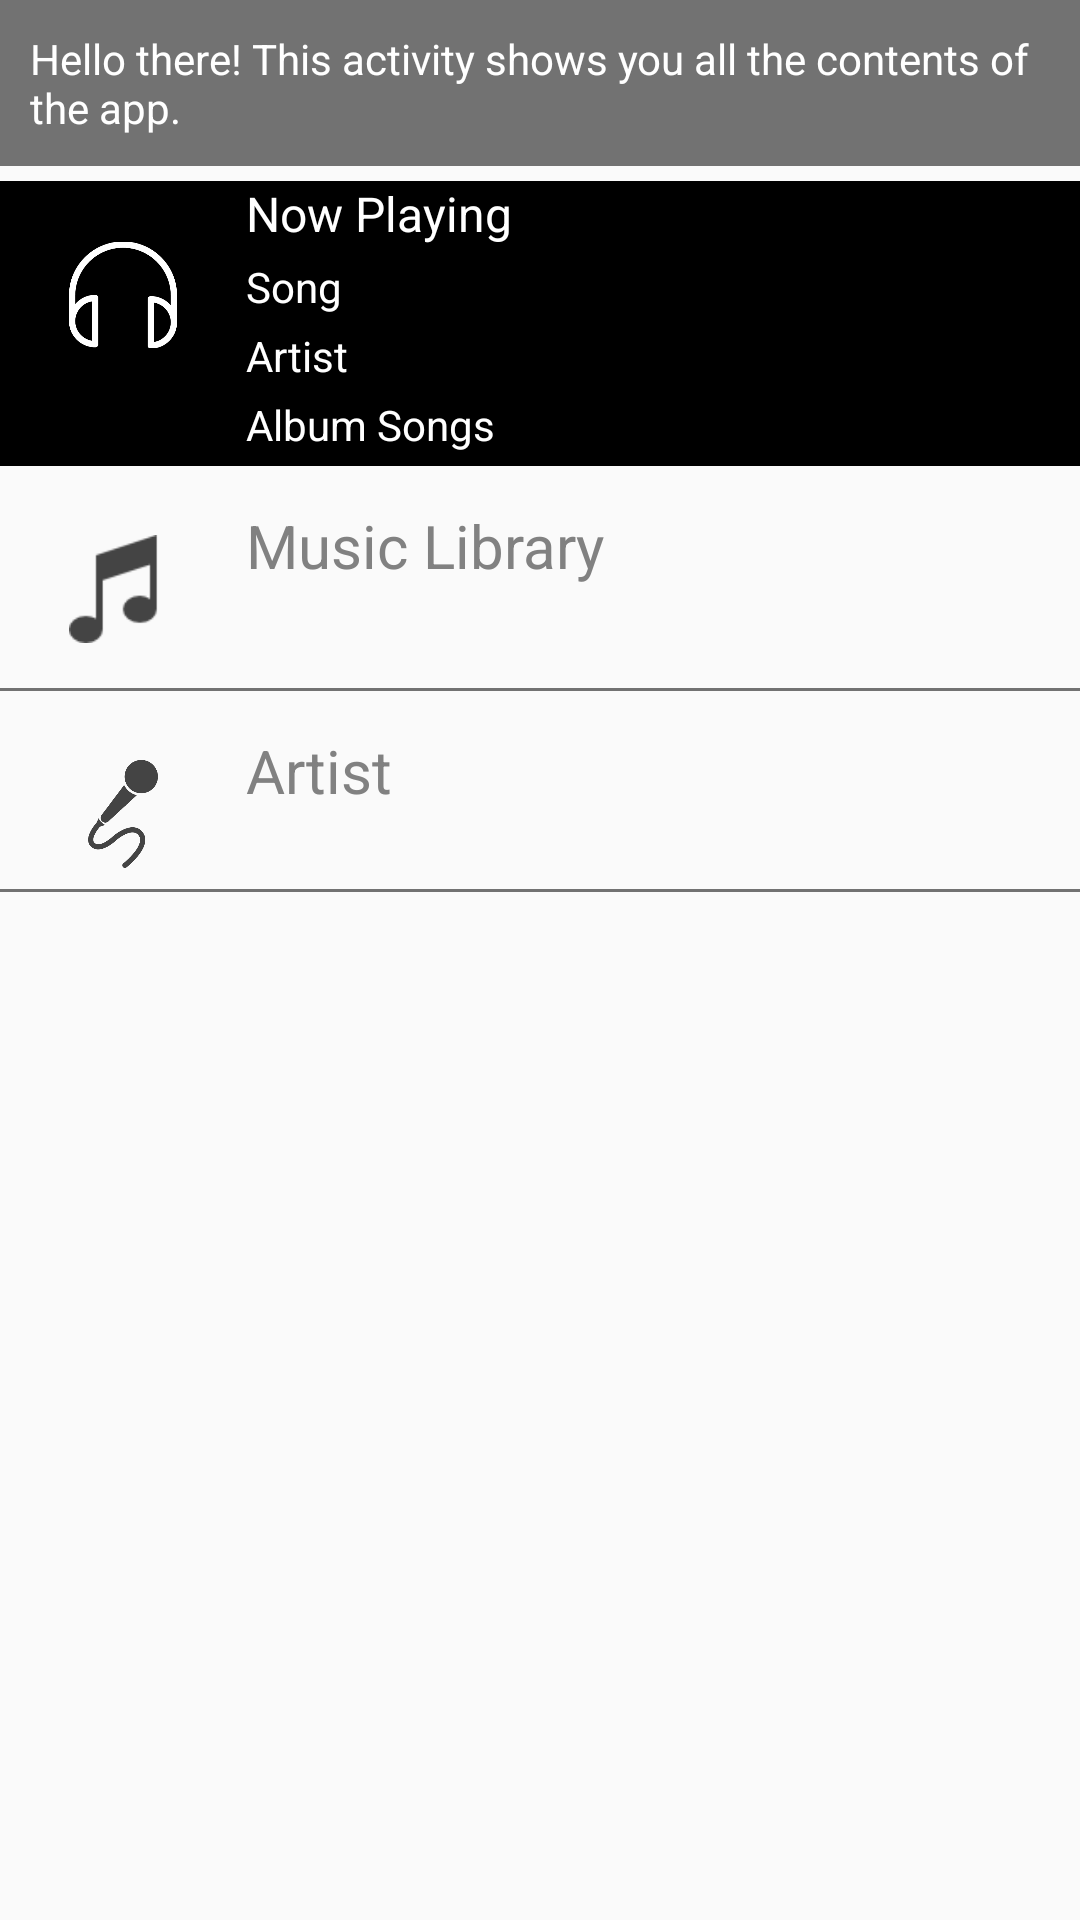

Locate icon controls on the screen. Image size 1080px x 1920px, boxes as (x1, y1, x2, y2).
music nowplay: (69, 242, 177, 348)
